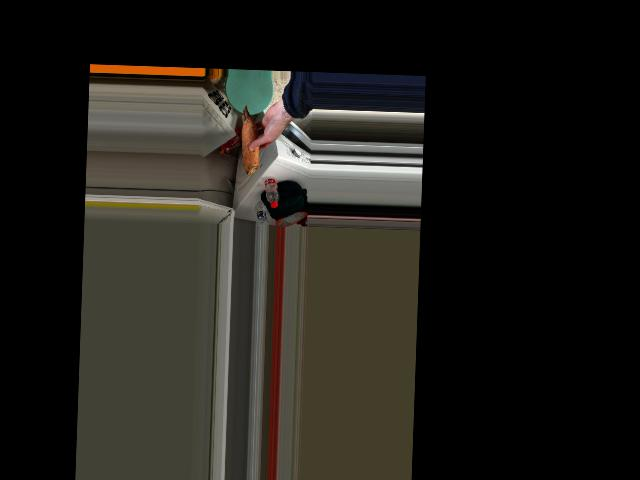sweet_potato: (241, 110, 263, 168)
